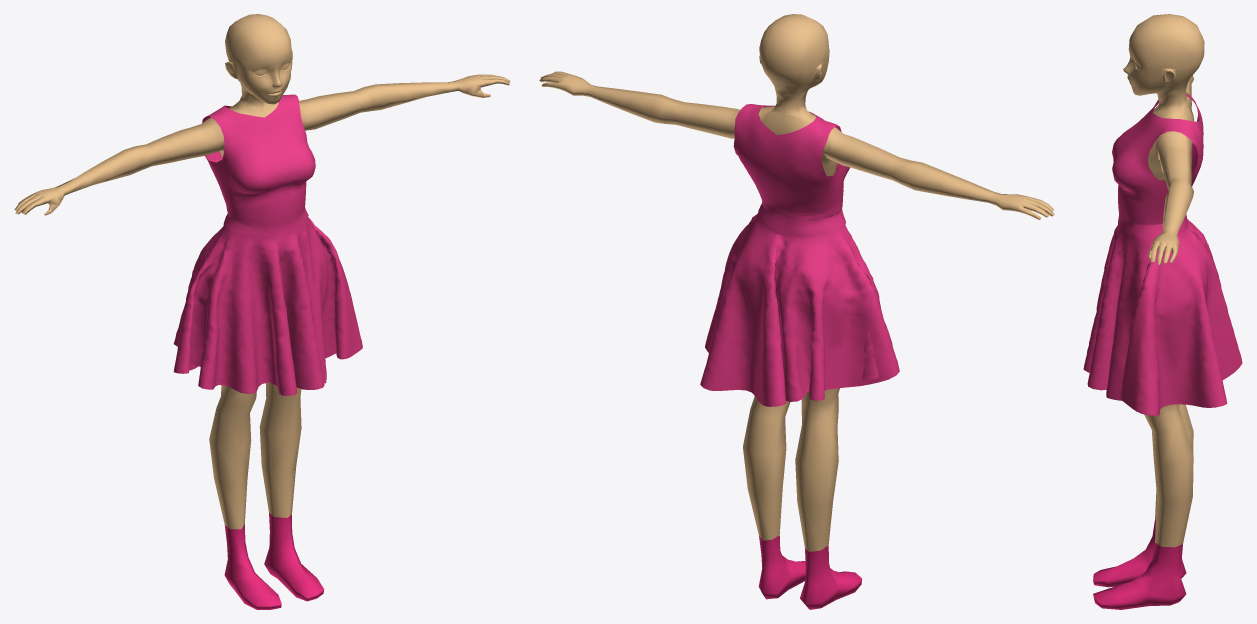
Rendered from girl.fbx.
3 views of the same model, side by side, from view 1: azimuth 30°, elevation 25°; view 2: azimuth 150°, elevation 25°; view 3: azimuth 270°, elevation 25° (orthographic). The views are drawn at different scales.
Parts seen in each view (by area): view 1: dress, JUMBO.002; view 2: dress, JUMBO.002; view 3: dress, JUMBO.002.
Boxes of the visible parts, left/top/right/bottom form: dress: left=173, top=94, right=362, bottom=395; JUMBO.002: left=14, top=14, right=510, bottom=609; dress: left=700, top=104, right=899, bottom=406; JUMBO.002: left=539, top=14, right=1054, bottom=609; dress: left=1083, top=93, right=1242, bottom=415; JUMBO.002: left=1093, top=14, right=1204, bottom=609.
Bounding box in the file's own units: 157 × 170 × 42.67.
